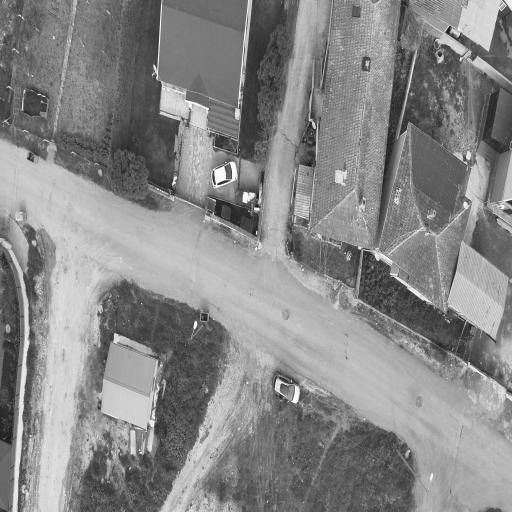car: (272, 373, 298, 403), (211, 162, 236, 188)
